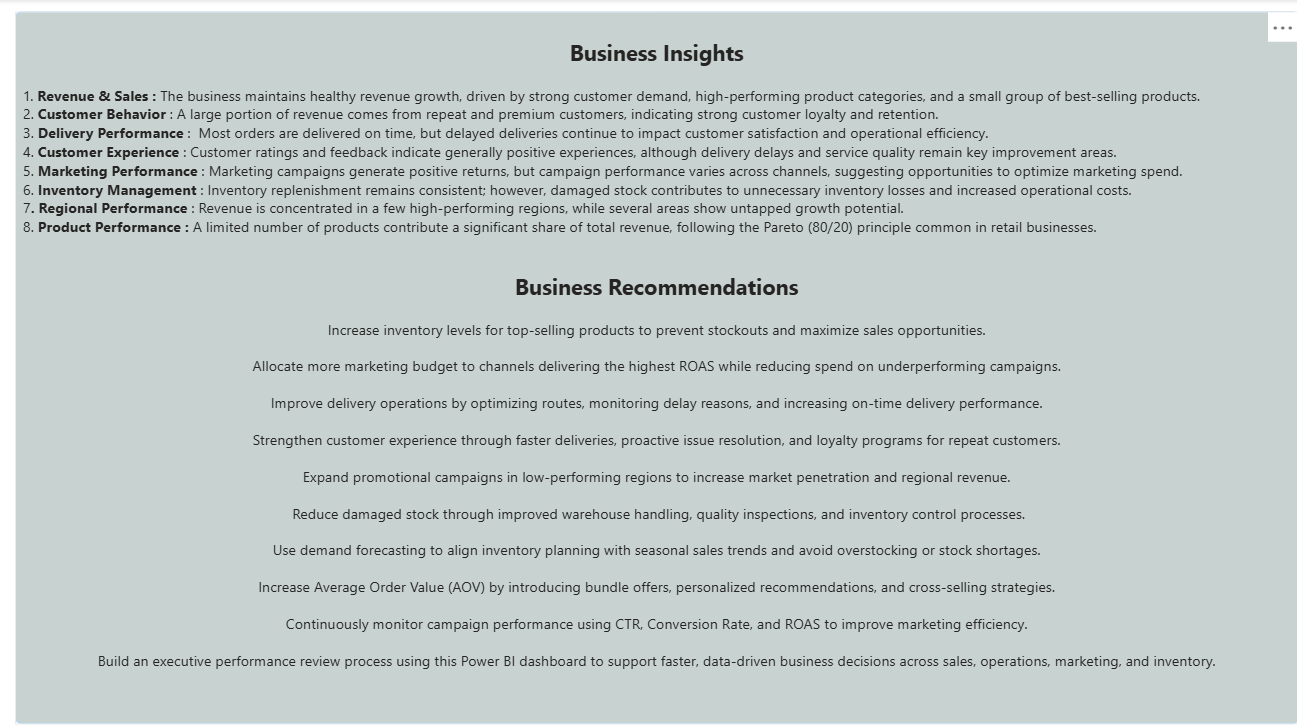

The dashboard page shown, as its layout file describes it:
{"tool":"powerbi","page":{"name":"BUSINESS INSIGHTS AND RECOMMENDATION","canvas":[1280,720],"ordinal":3},"visuals":[{"type":"textbox","box":[24.5,12.2,1255.8,697],"z":0}]}

Visuals, with their boxes on the page's 1280x720 design canvas (x1, y1, x2, y2). These are canvas units, not pixel positions in the 1297x727 screenshot, which may show the page scaled, cropped or inside an application window:
textbox: bbox=(24, 12, 1280, 709)
